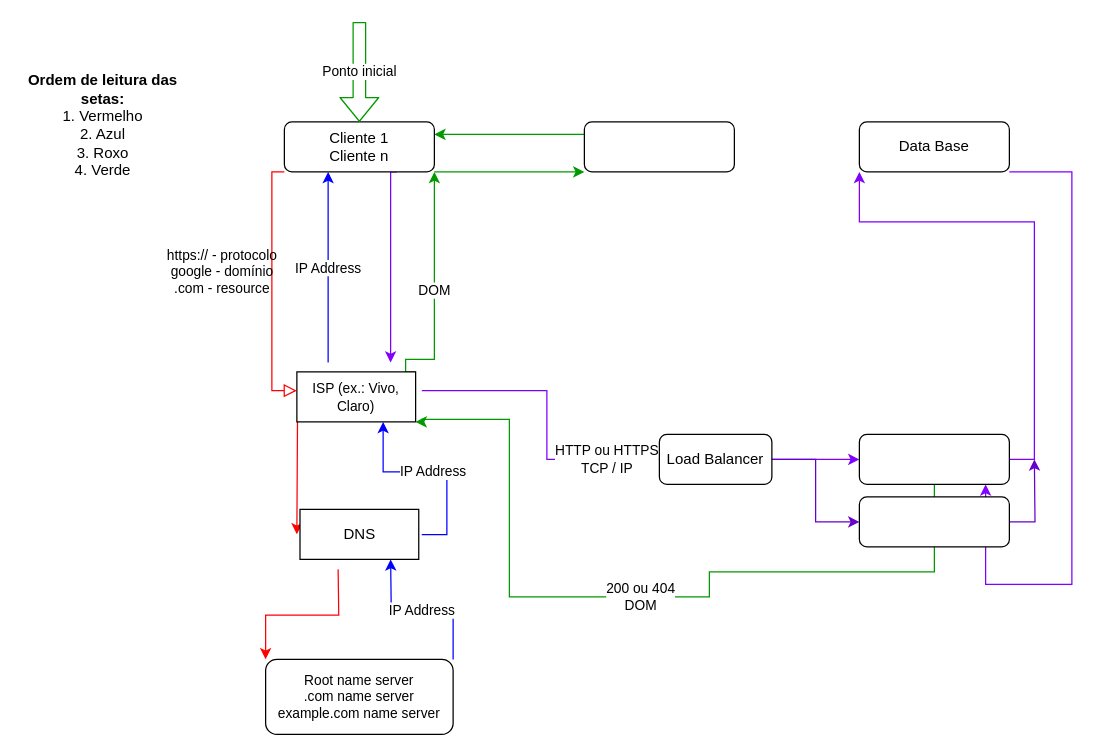
Some shapes in this 1104 by 756 pixel diagram are drawn without their labels. The centre of each missing label's shape, as x and y in pixels:
"Renderização" goes at point 658,146.
"Server 1" goes at point 933,458.
"Server n" goes at point 933,521.
